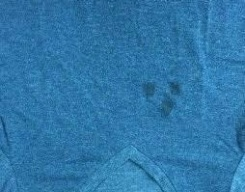oil: (140, 79, 181, 118)
